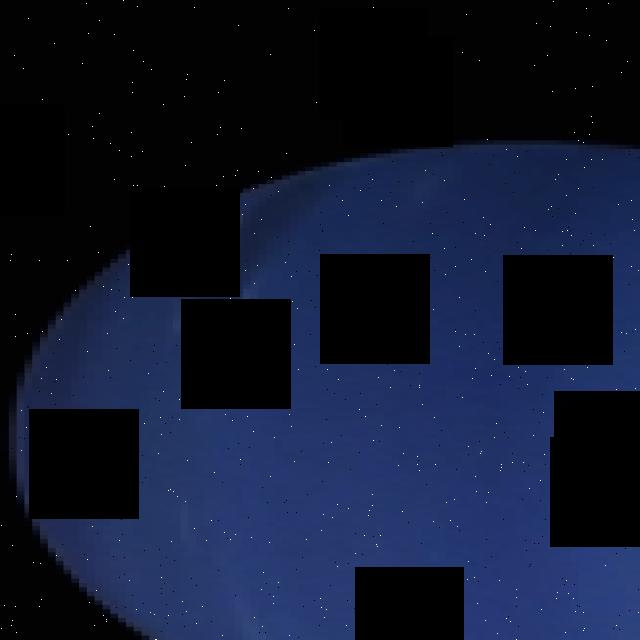Neptune: (8, 136, 640, 640)
